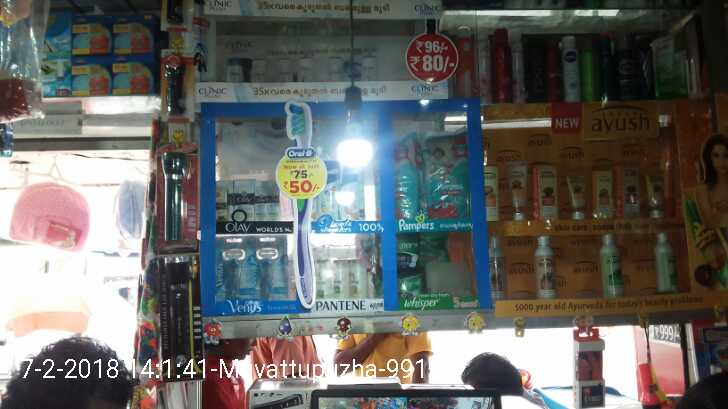venus: (251, 235, 288, 301), (217, 237, 251, 301)
